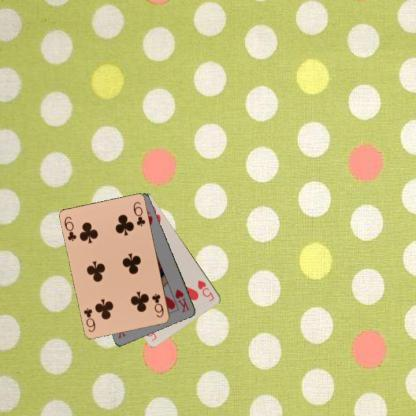5h: (196, 278, 216, 304)
6c: (62, 214, 78, 243), (149, 291, 165, 319)
Kh: (173, 286, 191, 314)
